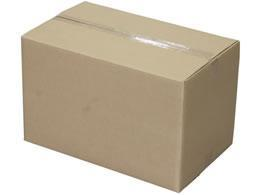box: (15, 2, 240, 193)
